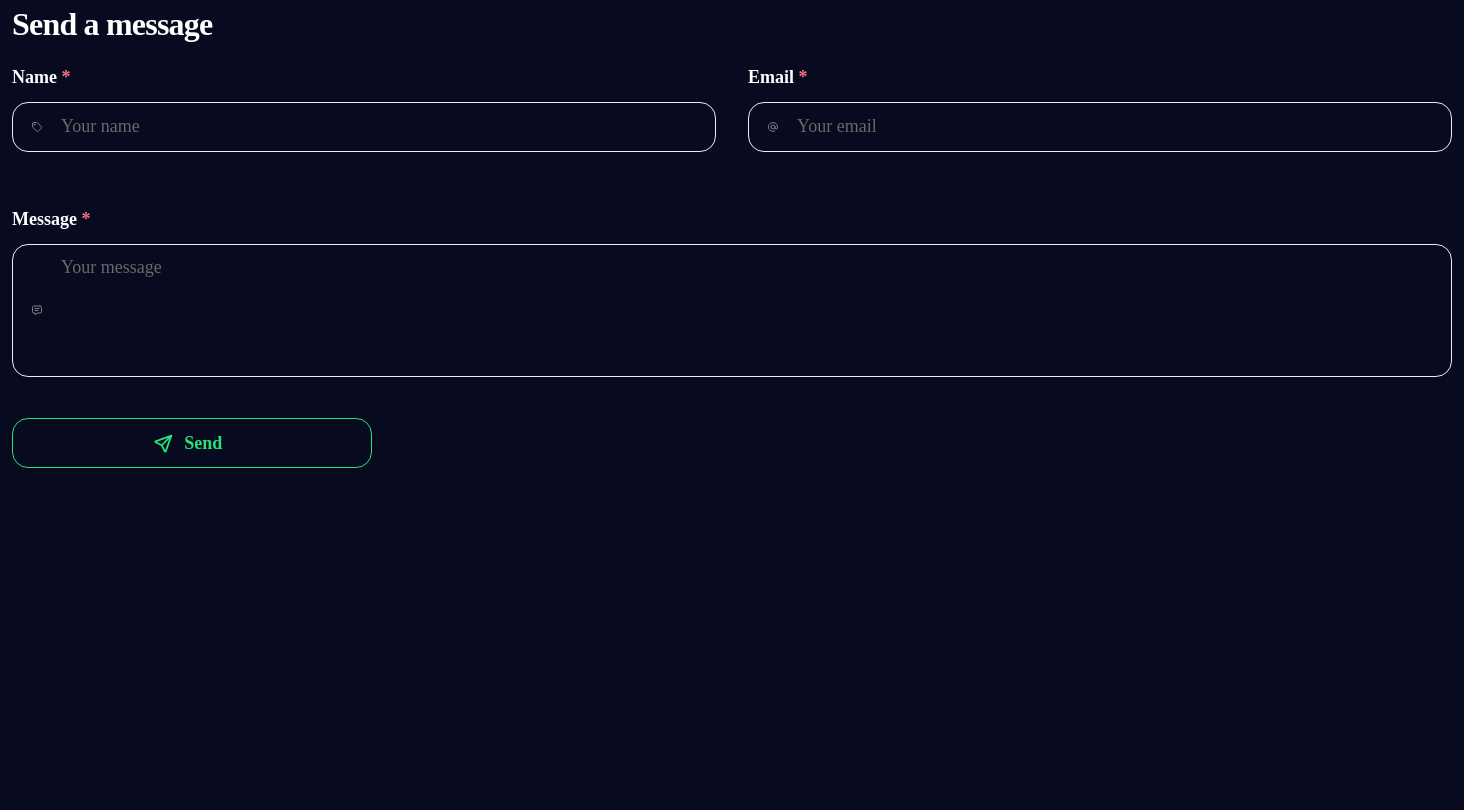
Test: ContactForm › shows a success notification and resets the form after a successful submission
Type "Jane" into the field labelled "Name *".
click(364, 127); type("Jane")  # box [12,102,716,152]
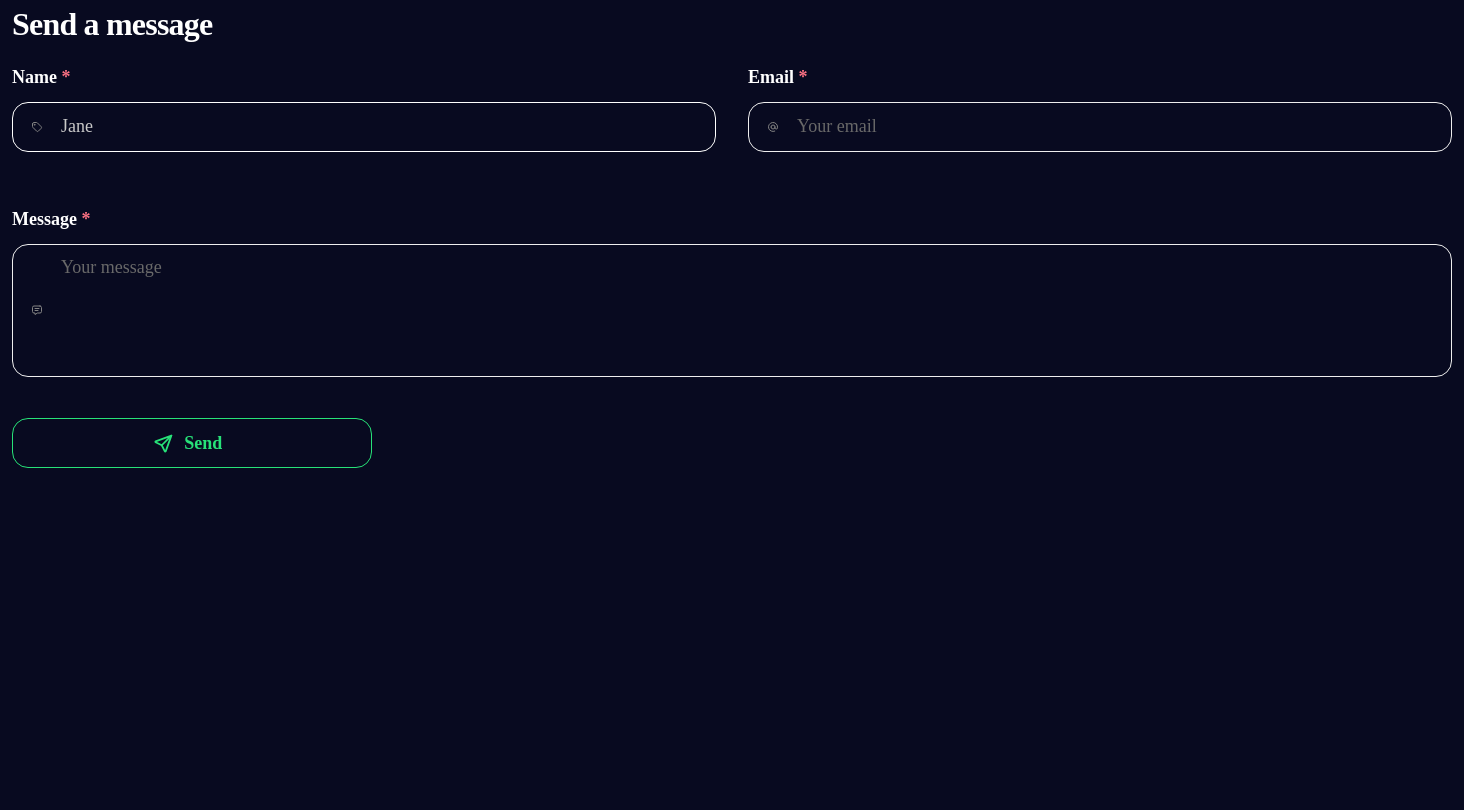
Type "jane@example.com" into the field labelled "Email *".
click(1100, 127); type("jane@example.com")  # box [748,102,1452,152]
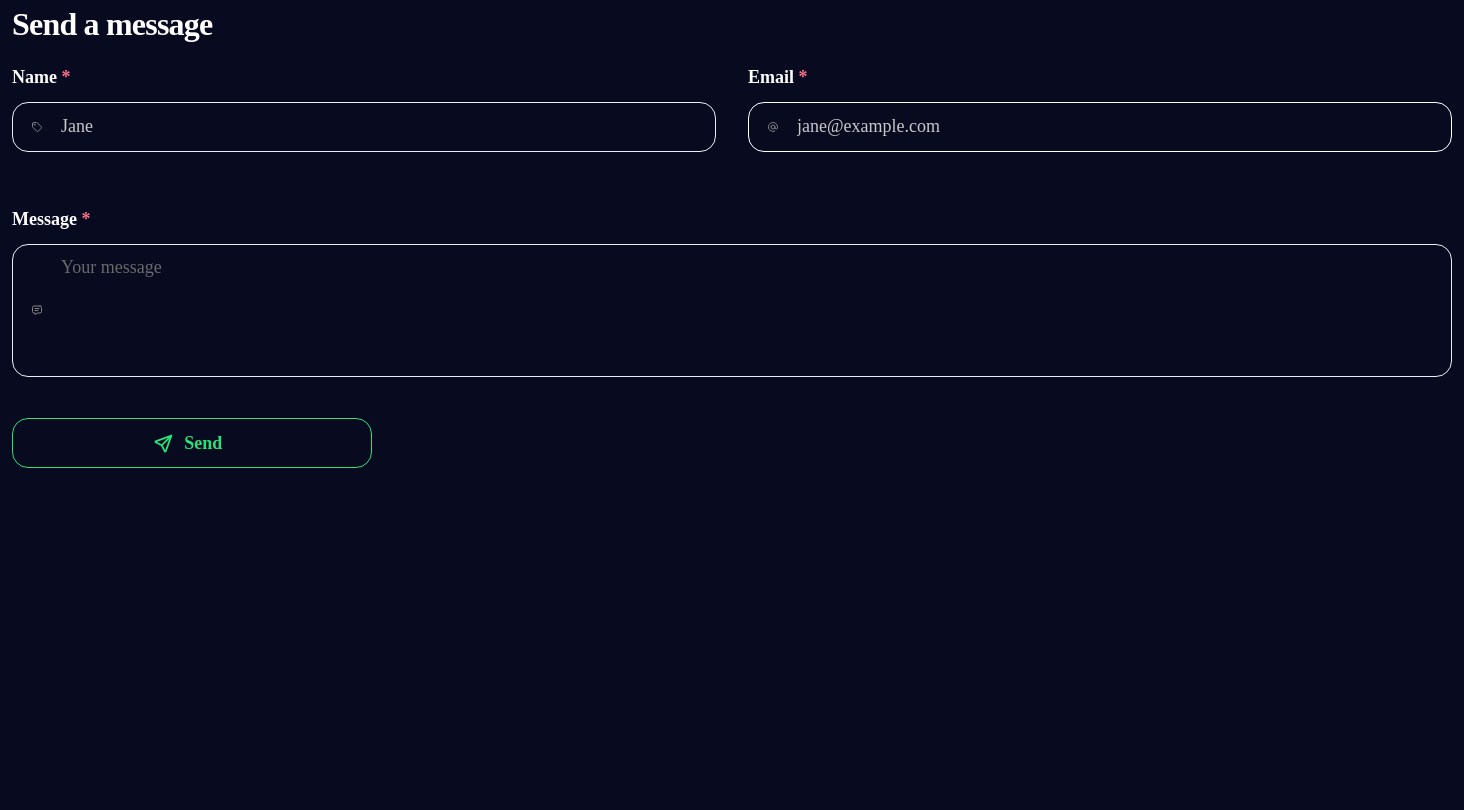
Type "Hello there!" into the text box labelled "Message *".
click(732, 310); type("Hello there!")  # box [12,244,1452,377]
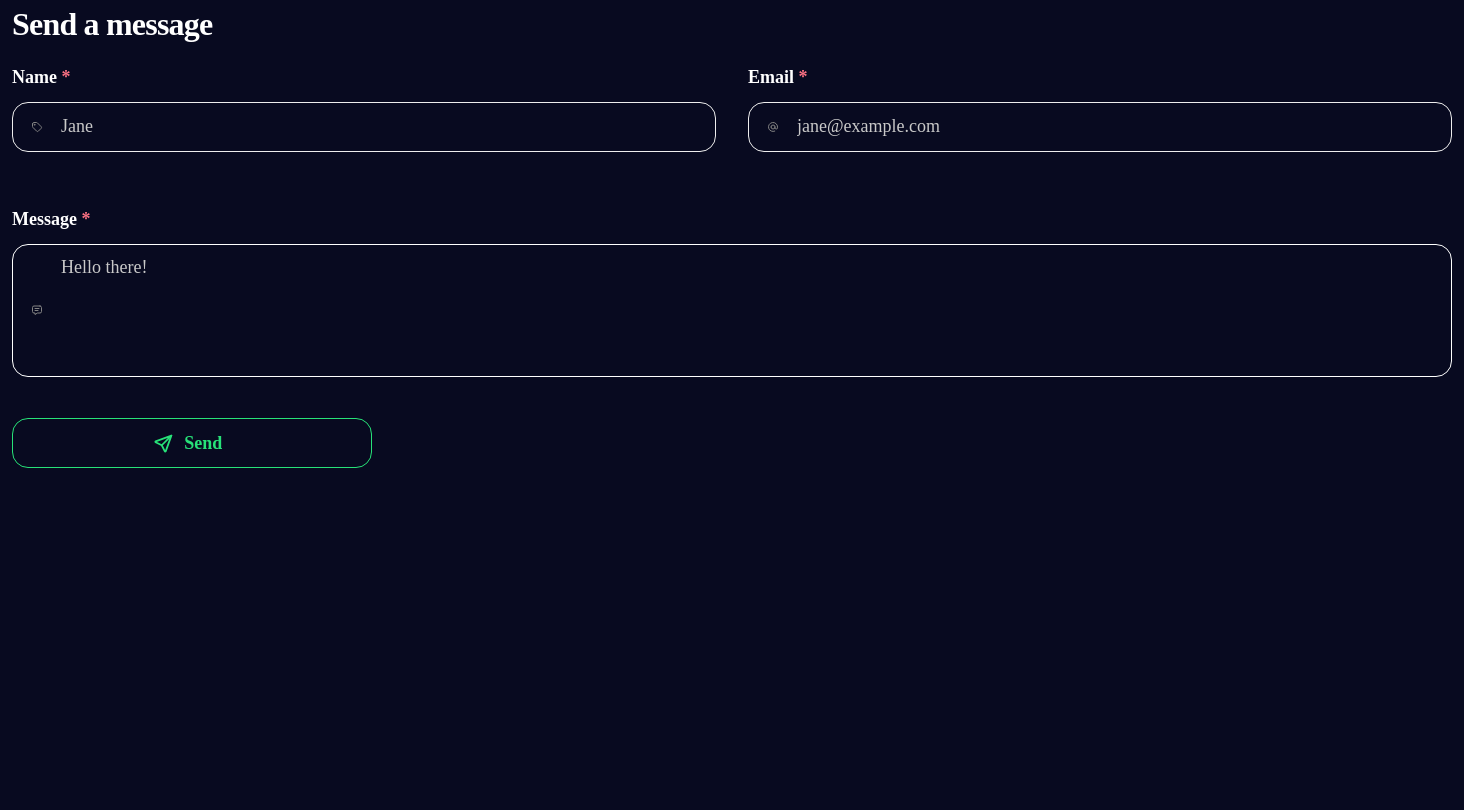
Click the button "Send".
click(192, 443)  # box [12,418,372,468]
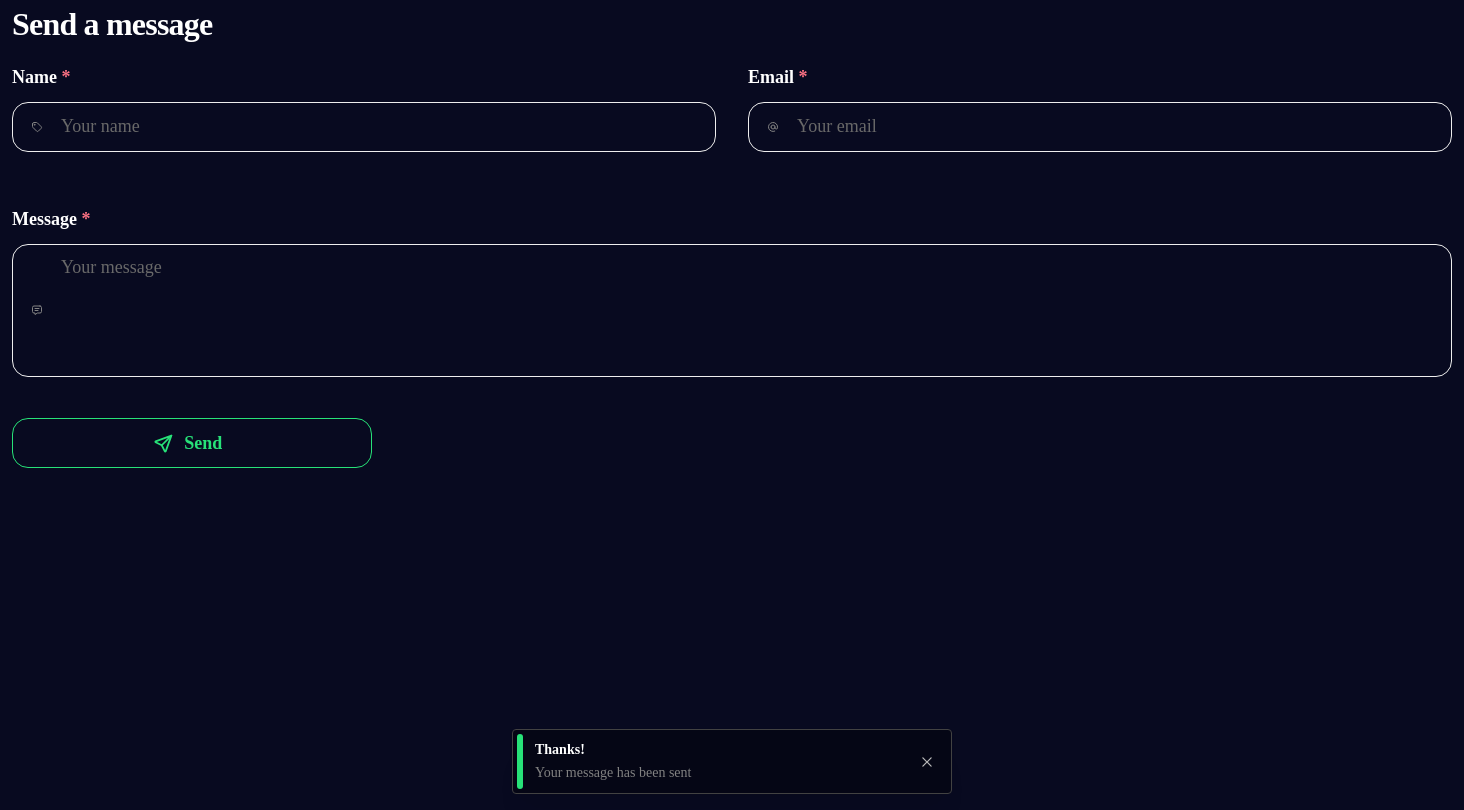
Expected: the text "Your message has been sent" is shown, [535,765,692,780]
Expected: the field labelled "Name *" is empty, [12,102,716,152]
